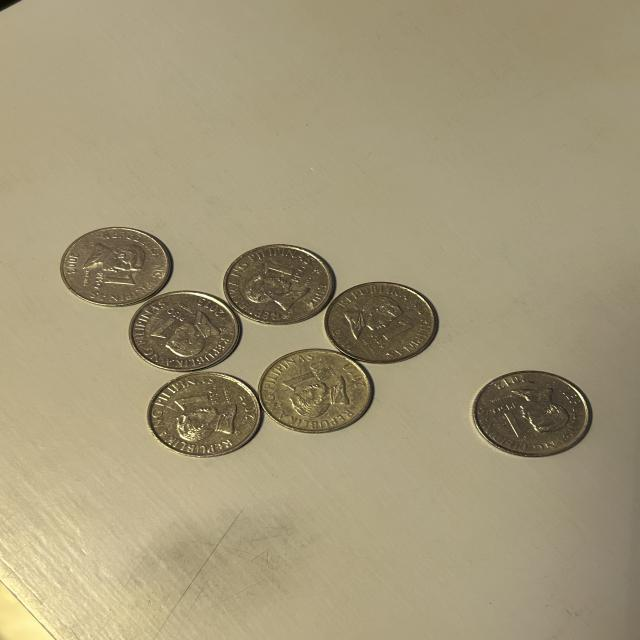1_Old_Front: (487, 404, 535, 444), (358, 318, 415, 350), (260, 256, 311, 286), (170, 384, 223, 411), (149, 306, 185, 345), (278, 362, 330, 389), (93, 267, 141, 296)
